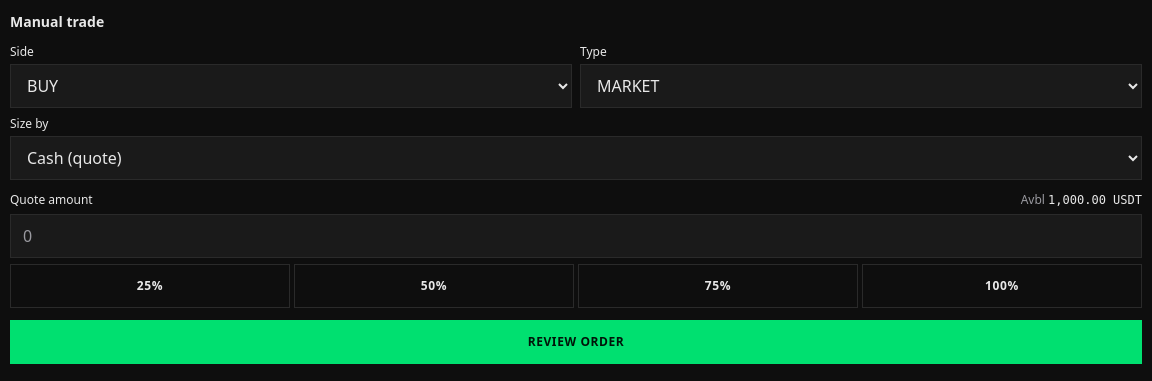
ManualTradePanel — interactions › fills the amount from a percentage of the available balance
The width and height of the screenshot is (1152, 381).
Expected: the element with test id "manual-avbl" shows "1,000.00 USDT", [1021,192,1142,208]
Click the button with test id "manual-pct-50" at (434, 286), box [294,264,574,308]
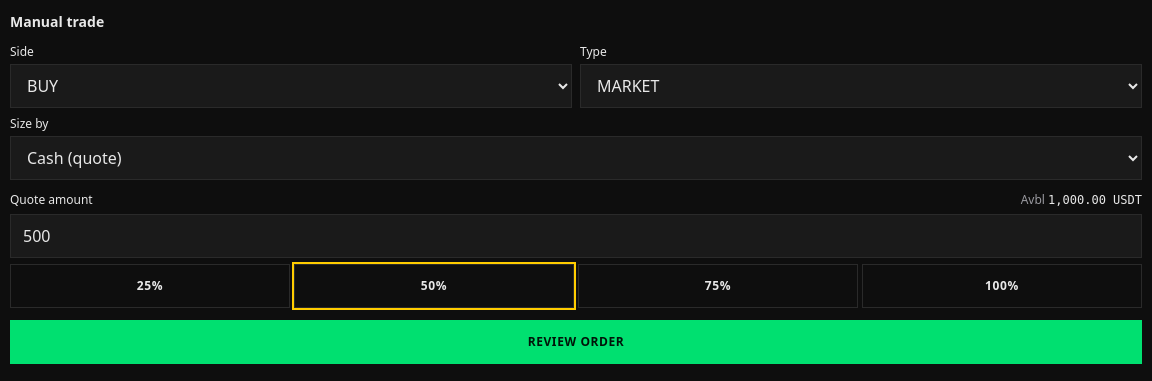
Now the field with test id "manual-amount" holds "500", box [10,214,1142,258]
